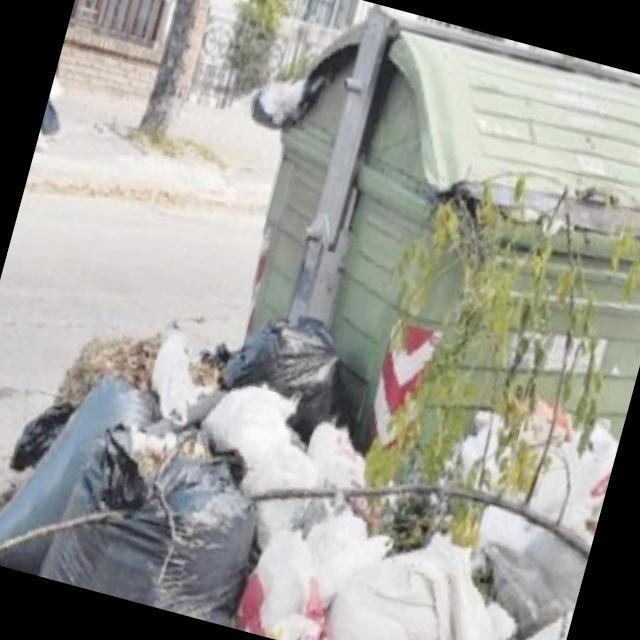garbage: (101, 326, 383, 640), (12, 337, 160, 592), (312, 531, 577, 640), (252, 306, 350, 382), (574, 412, 625, 552), (0, 469, 38, 569)
